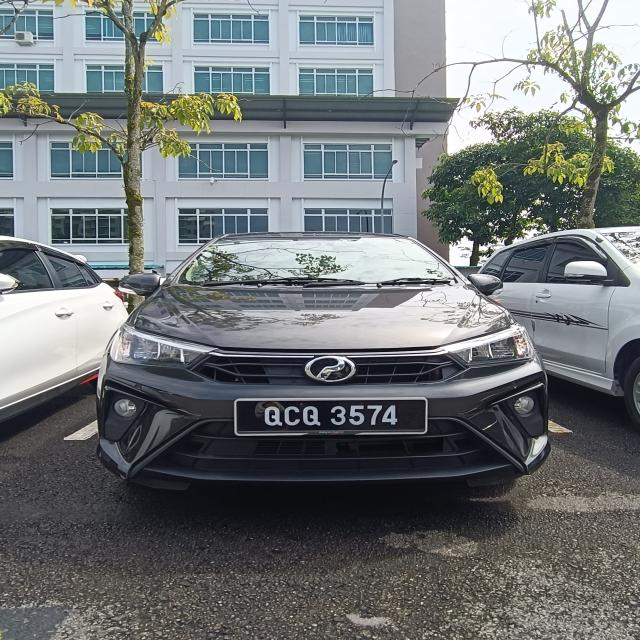PeroduaBezza: (94, 229, 551, 492)
